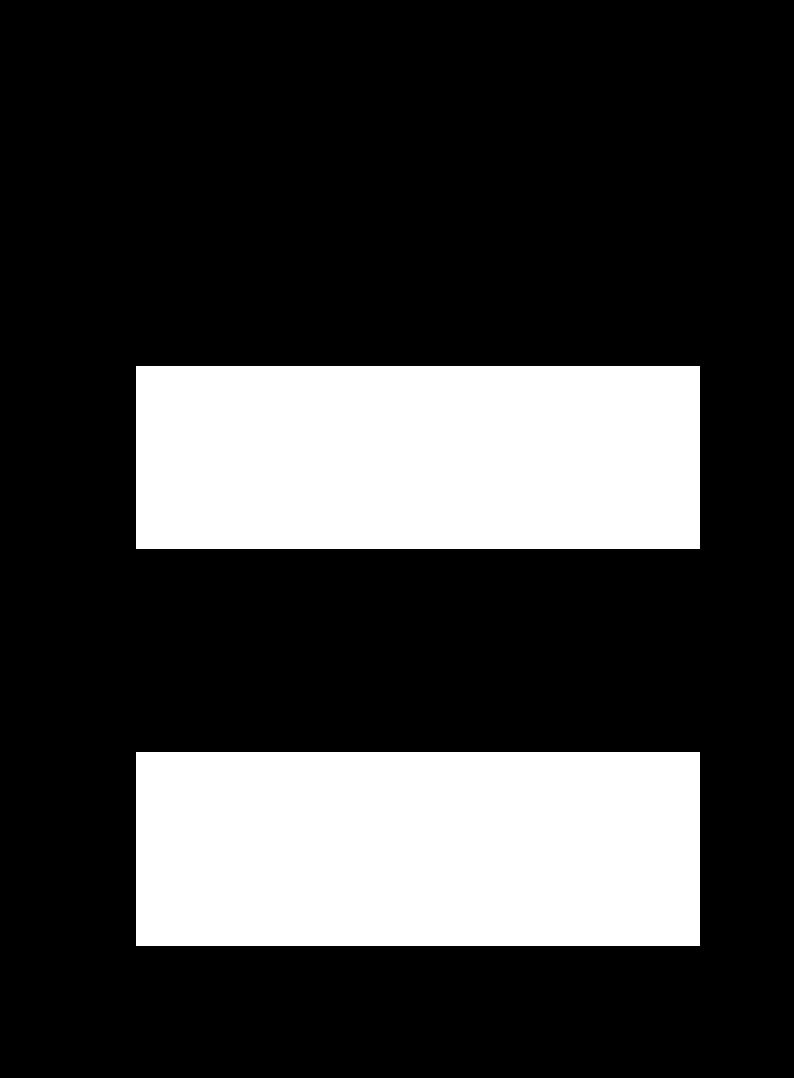table: (136, 752, 699, 945), (136, 366, 699, 548)
